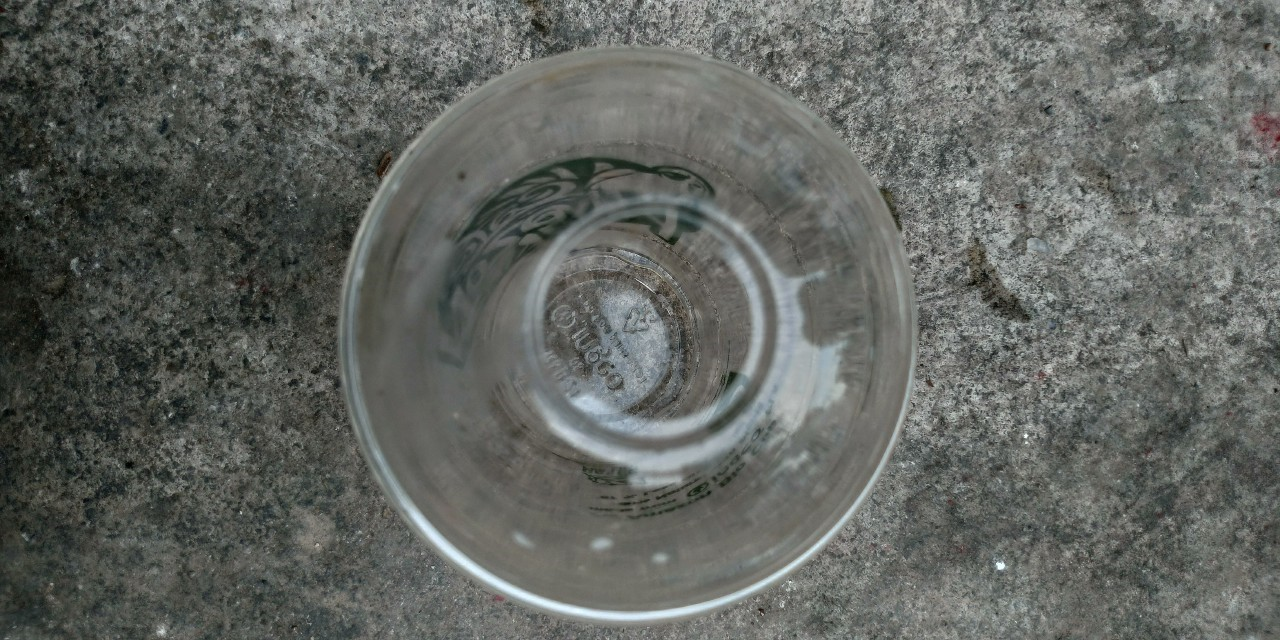PlasticCup: (340, 45, 921, 625)
